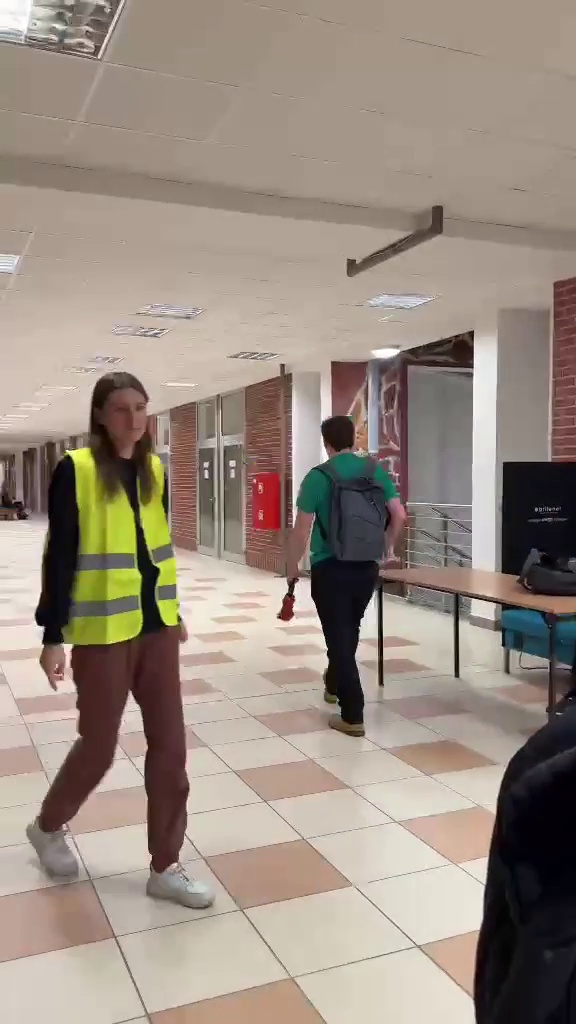no vest: (288, 416, 417, 742)
vest: (40, 367, 216, 912)
